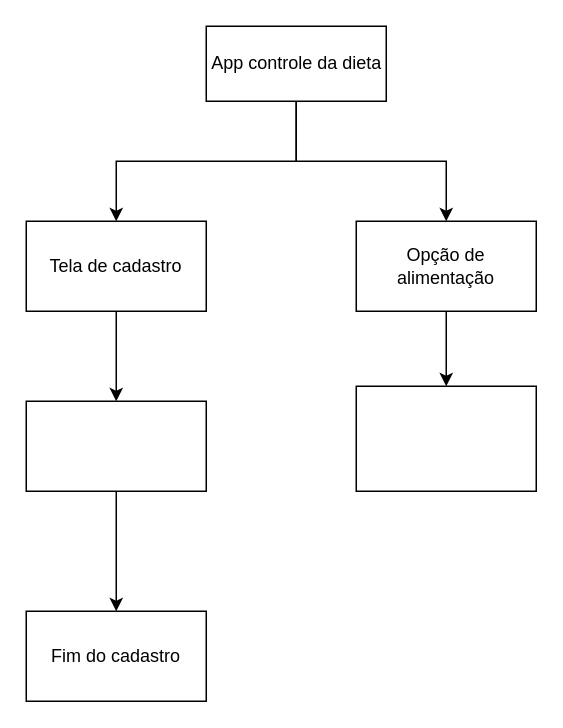
Some shapes in this 563 by 728 pixel diagram are drawn without their labels. Here are the shapes that lost their labels. From the top down, the box of each, then its label:
(25, 400, 206, 491): Nome Peso Altura
(355, 385, 536, 491): Café da manhã Lanche da manhã Almoço Lanche da tarde Jantar
